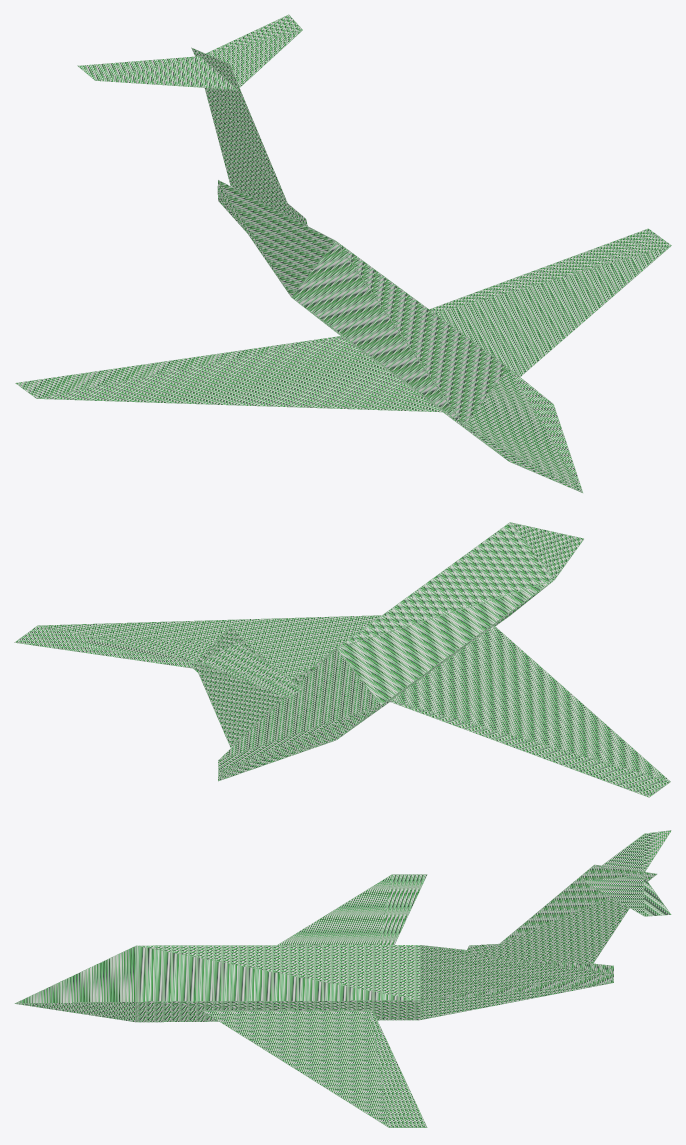
The model's file is JBAI Challenger 601 Standard Tail MSFS_LOD1.gltf.
The picture shows the model from 3 angles, top to bottom: view 1: azimuth 30°, elevation 25°; view 2: azimuth 150°, elevation 25°; view 3: azimuth 270°, elevation 25°; orthographic projection. The views are drawn at different scales.
Parts seen in each view (by area): view 1: node1; view 2: node1; view 3: node1.
Part boxes in pixels (x1,y1,x2,y2): node1: (15, 14, 671, 492); node1: (14, 522, 670, 797); node1: (14, 830, 671, 1127).
Bounding box in the file's own units: 18.8 × 5.47 × 20.57.
